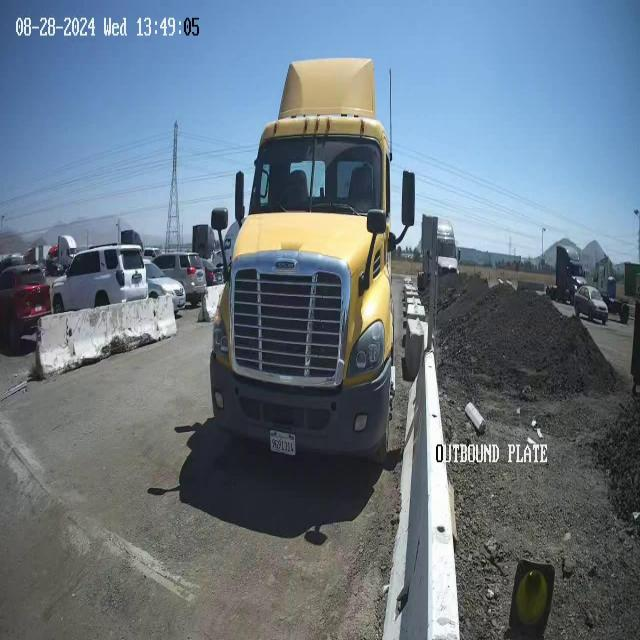TRUCK_OUT: (209, 56, 415, 468)
